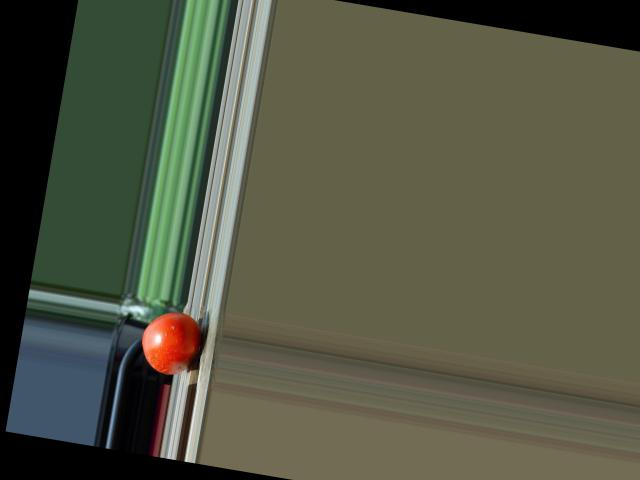tomato: (136, 306, 203, 378)
